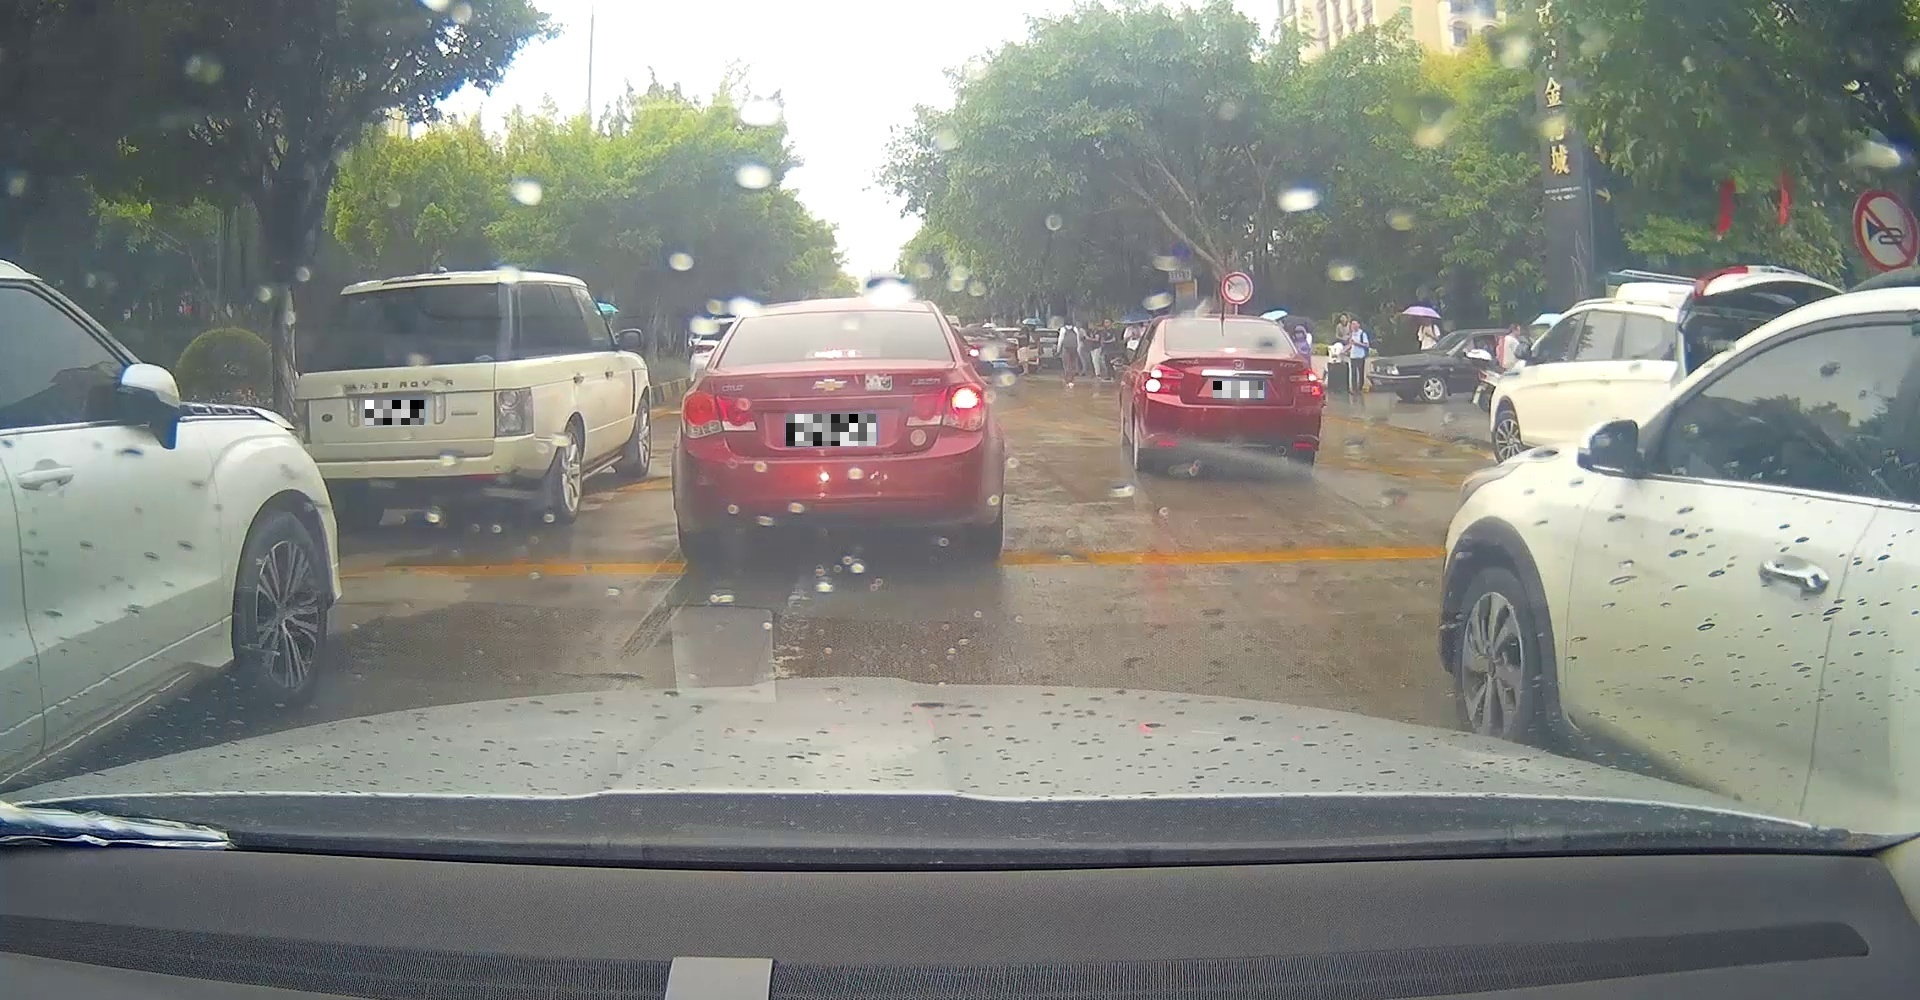L_light: (681, 390, 757, 438), (1142, 363, 1183, 393), (296, 398, 312, 445)
R_light: (905, 382, 985, 429), (493, 386, 535, 437), (1288, 369, 1319, 396)
T_light: (381, 275, 451, 286), (813, 349, 858, 358), (1219, 346, 1244, 353)
day-brake: (672, 302, 1003, 561), (1140, 317, 1321, 478)
day-no: (295, 273, 536, 527)
plate_1: (364, 400, 424, 425)
plate_2: (786, 414, 876, 445)
plate_3: (1213, 381, 1263, 398)
